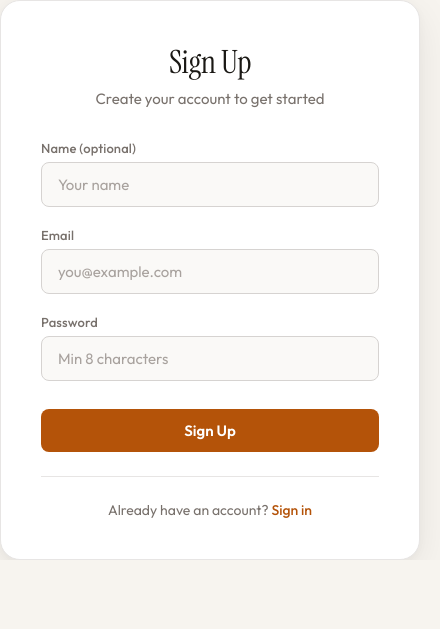
SignUpPage › displays error message when registration fails with AppError
The width and height of the screenshot is (440, 629).
Type "a@b.com" into the field labelled "Email" at (210, 272), box top-left (41, 249), bottom-right (379, 294)
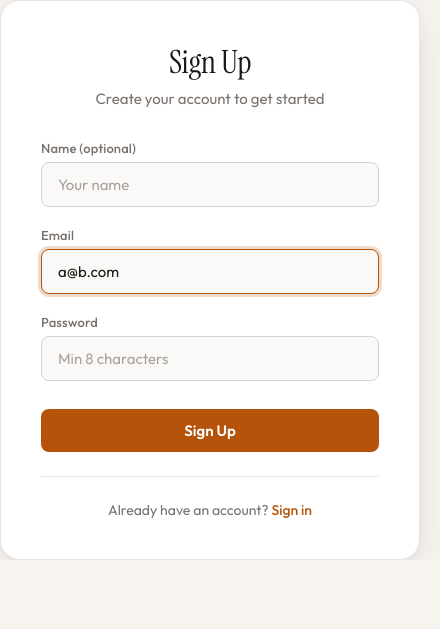
Type "password123" into the password field labelled "Password" at (210, 358), box top-left (41, 336), bottom-right (379, 381)
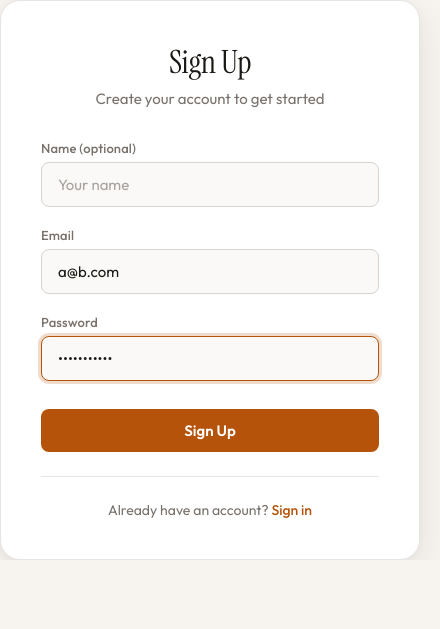
Click the button "Sign Up" at (210, 430), box top-left (41, 409), bottom-right (379, 452)
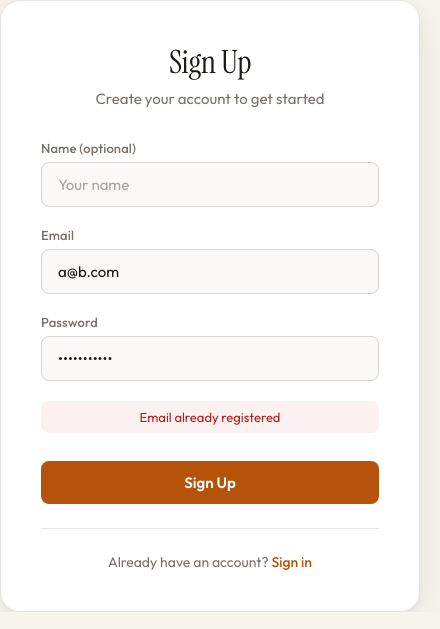
Expected: the text "Email already registered" is shown, top-left (41, 401), bottom-right (379, 433)
